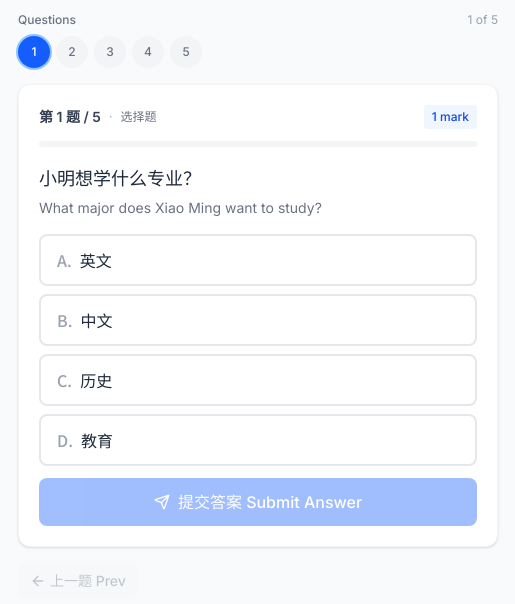
Test: PracticePage — full Q1→Q2→Q3→Finish flow › Q1 MC: pick option, submit, see Try Again + Next
(page scrolled)
Check: the text "第 1 题 / 5" is shown, box [39, 107, 101, 127]
Click the radio button labelled "B.中文" at (96, 320), box [39, 294, 477, 346]
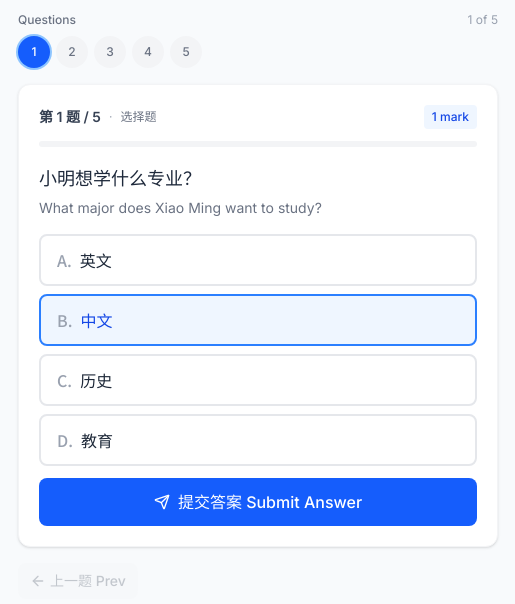
Check: the button "提交答案 Submit Answer" is enabled
Click the button "提交答案 Submit Answer" at (258, 502), box [39, 478, 477, 526]
(page scrolled)
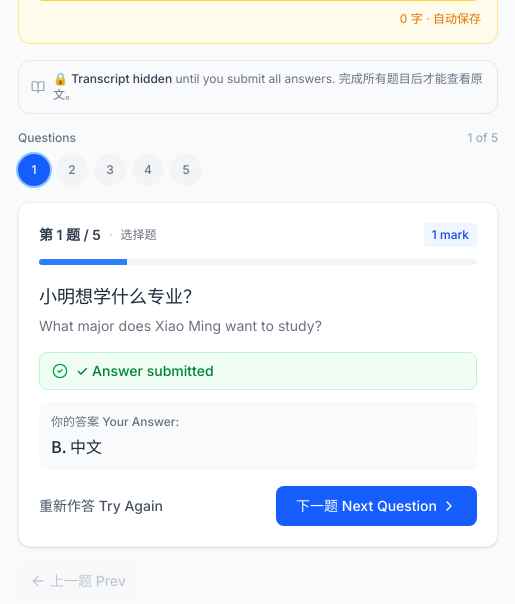
Check: the text "✓ Answer submitted" is shown, box [76, 361, 214, 381]
Check: the button "重新作答 Try Again" is shown, box [39, 496, 163, 516]
Check: the button "下一题 Next Question" is shown, box [276, 486, 477, 526]
